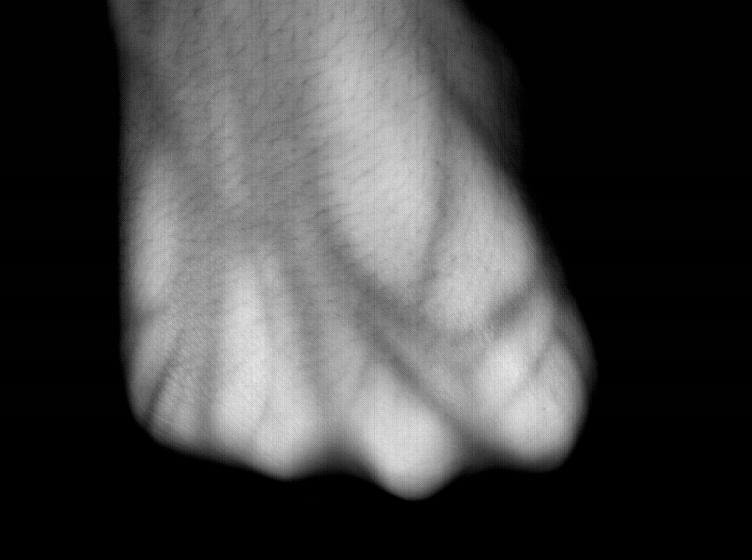Vein: (299, 171, 430, 326)
